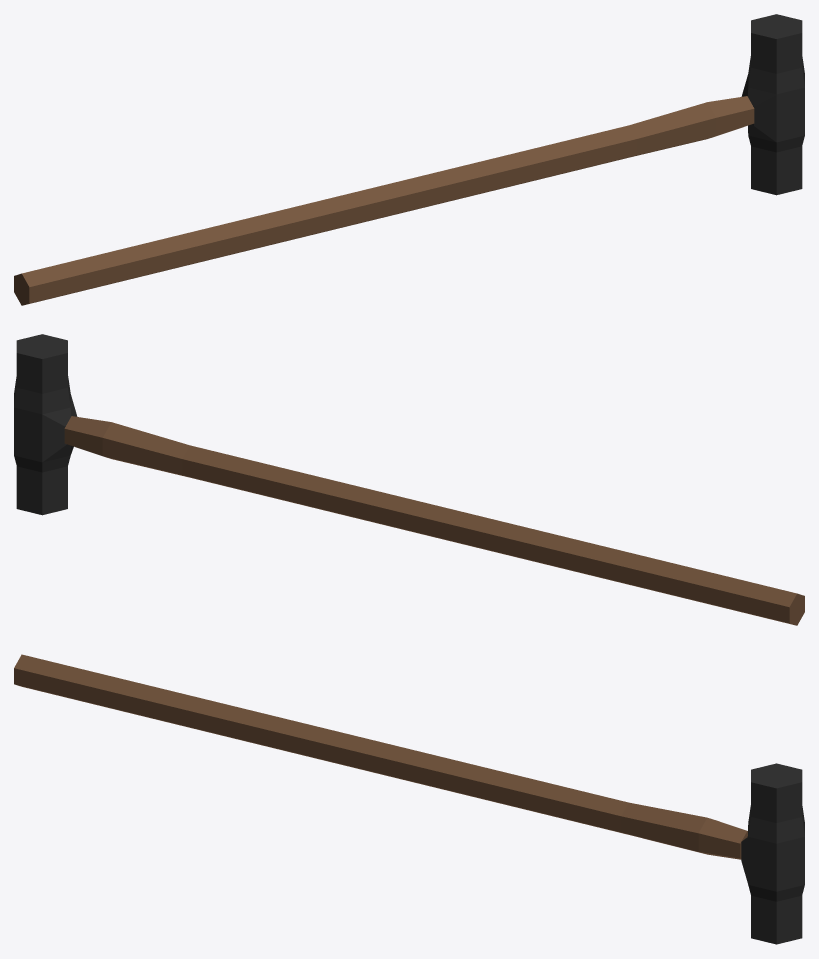
The model's file is sledgehammer.fbx.
The picture shows the model from 3 angles, top to bottom: view 1: azimuth 30°, elevation 25°; view 2: azimuth 150°, elevation 25°; view 3: azimuth 330°, elevation 25°; orthographic projection.
Visible parts, largest first — view 1: pCylinder12; view 2: pCylinder12; view 3: pCylinder12.
Part boxes in pixels (box(x1,y1,x2,y2)): pCylinder12: box(14, 14, 804, 305); pCylinder12: box(14, 334, 804, 625); pCylinder12: box(14, 654, 804, 944).
Size of the model in its own units: 87 by 16.57 by 5.46.
